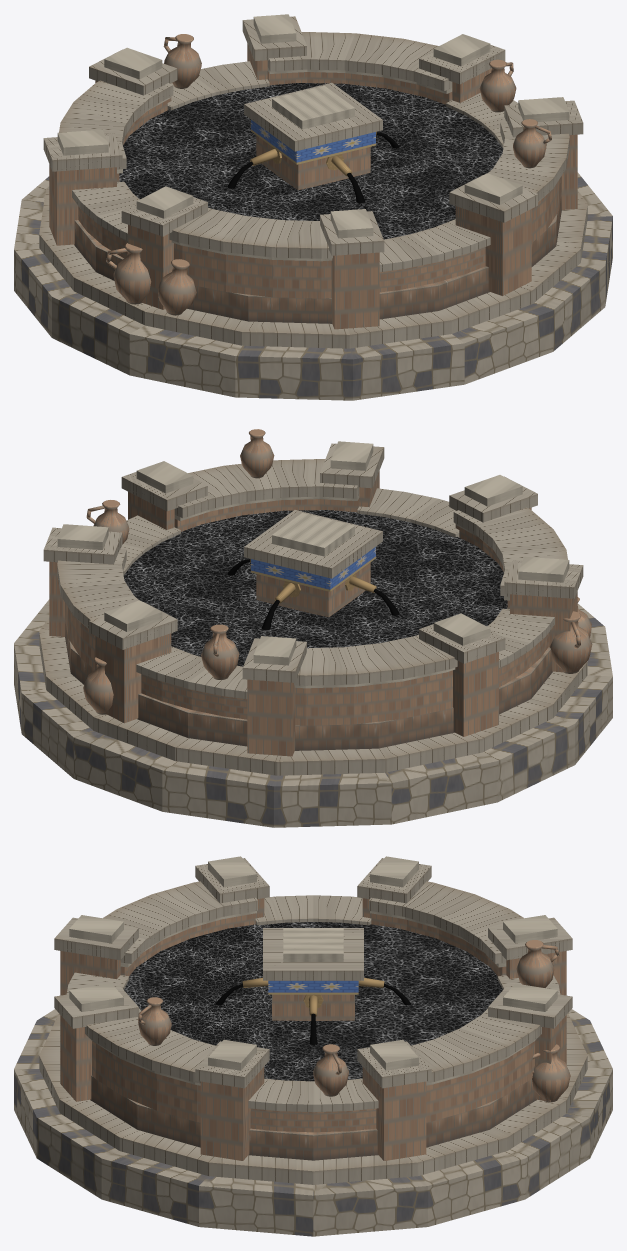
The model's file is ur_fountain_hero.glb.
3 renders of one model, top to bottom at view 1: azimuth 30°, elevation 25°; view 2: azimuth 150°, elevation 25°; view 3: azimuth 270°, elevation 25°, orthographic.
Parts seen in each view (by area): view 1: ur_fountain_hero_LOD0; view 2: ur_fountain_hero_LOD0; view 3: ur_fountain_hero_LOD0.
Boxes of the visible parts, bbox=[...] form: ur_fountain_hero_LOD0: bbox=[14, 14, 612, 400]; ur_fountain_hero_LOD0: bbox=[14, 429, 612, 827]; ur_fountain_hero_LOD0: bbox=[14, 856, 612, 1236].
Size of what is drawn, in the model's own units: 4.76 by 1.54 by 4.76.
2 materials, 2 textured.
